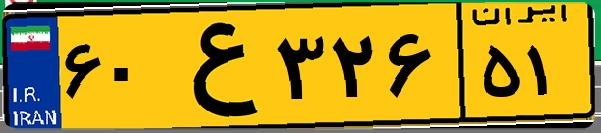0: (110, 28, 158, 98)
1: (525, 38, 570, 115)
2: (330, 28, 385, 110)
3: (270, 28, 330, 110)
5: (475, 38, 525, 113)
6: (385, 28, 445, 110), (57, 26, 110, 100)
ع: (158, 12, 270, 120)
